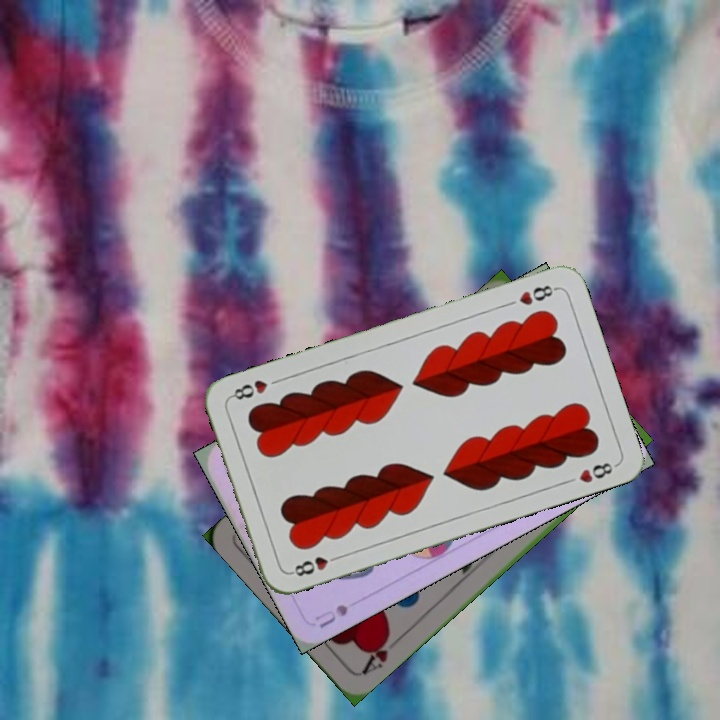H8: (286, 551, 344, 579), (515, 281, 560, 308)
HA: (357, 628, 405, 677)
SU: (311, 600, 351, 631)
